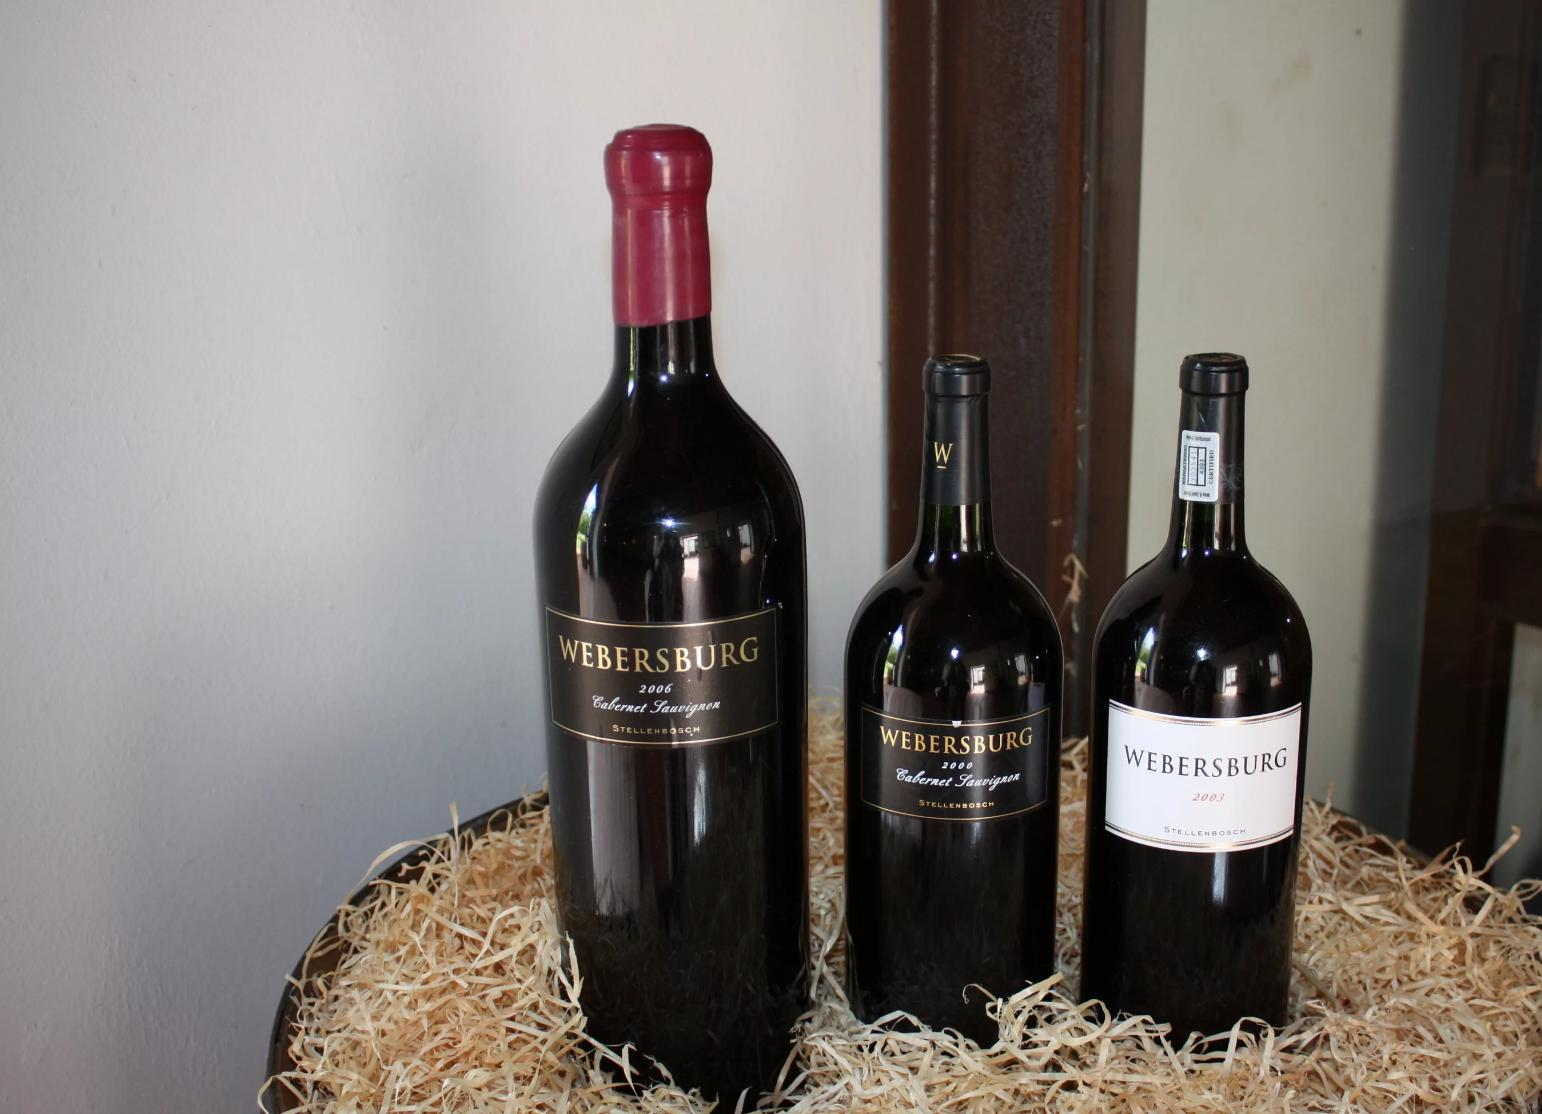wine bottle: (534, 120, 811, 1114), (1082, 351, 1313, 1065), (844, 352, 1063, 1066)
wine label: (547, 605, 782, 748), (1105, 698, 1301, 854), (861, 704, 1051, 822)
